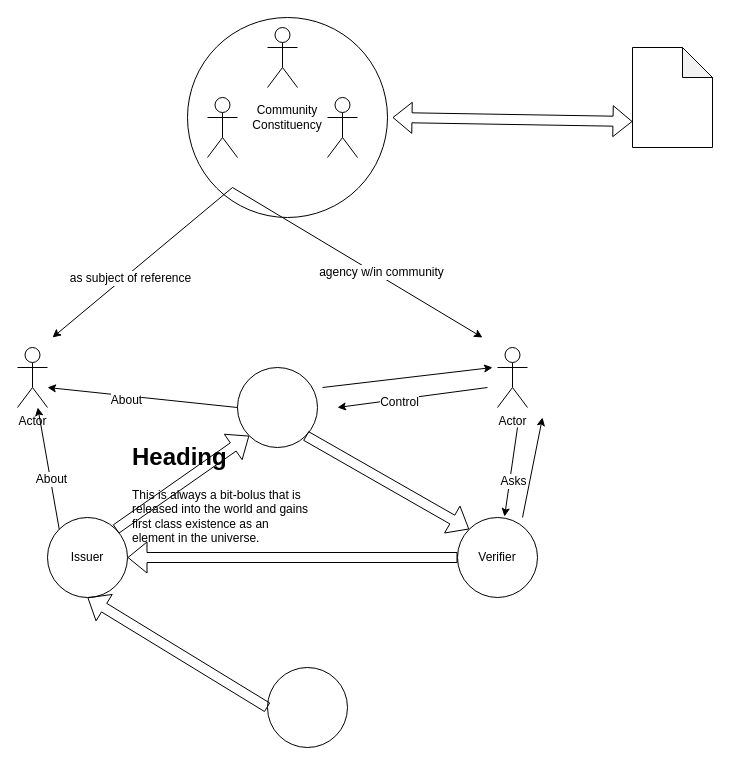
This 730x765 diagram has some shape labels left out. The centre of each missing label's shape, as x and y in pixels:
"Community Constitution" belongs at [672,97].
"Governance Framework" belongs at [307,707].
"Holder" belongs at [277,407].
